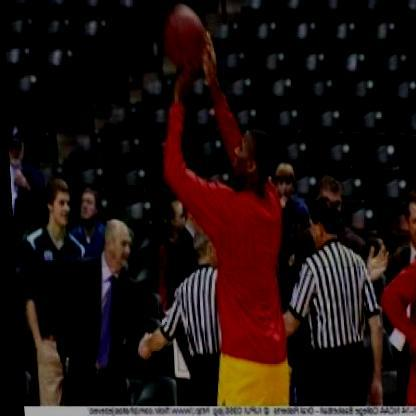basketball: (153, 1, 219, 71)
